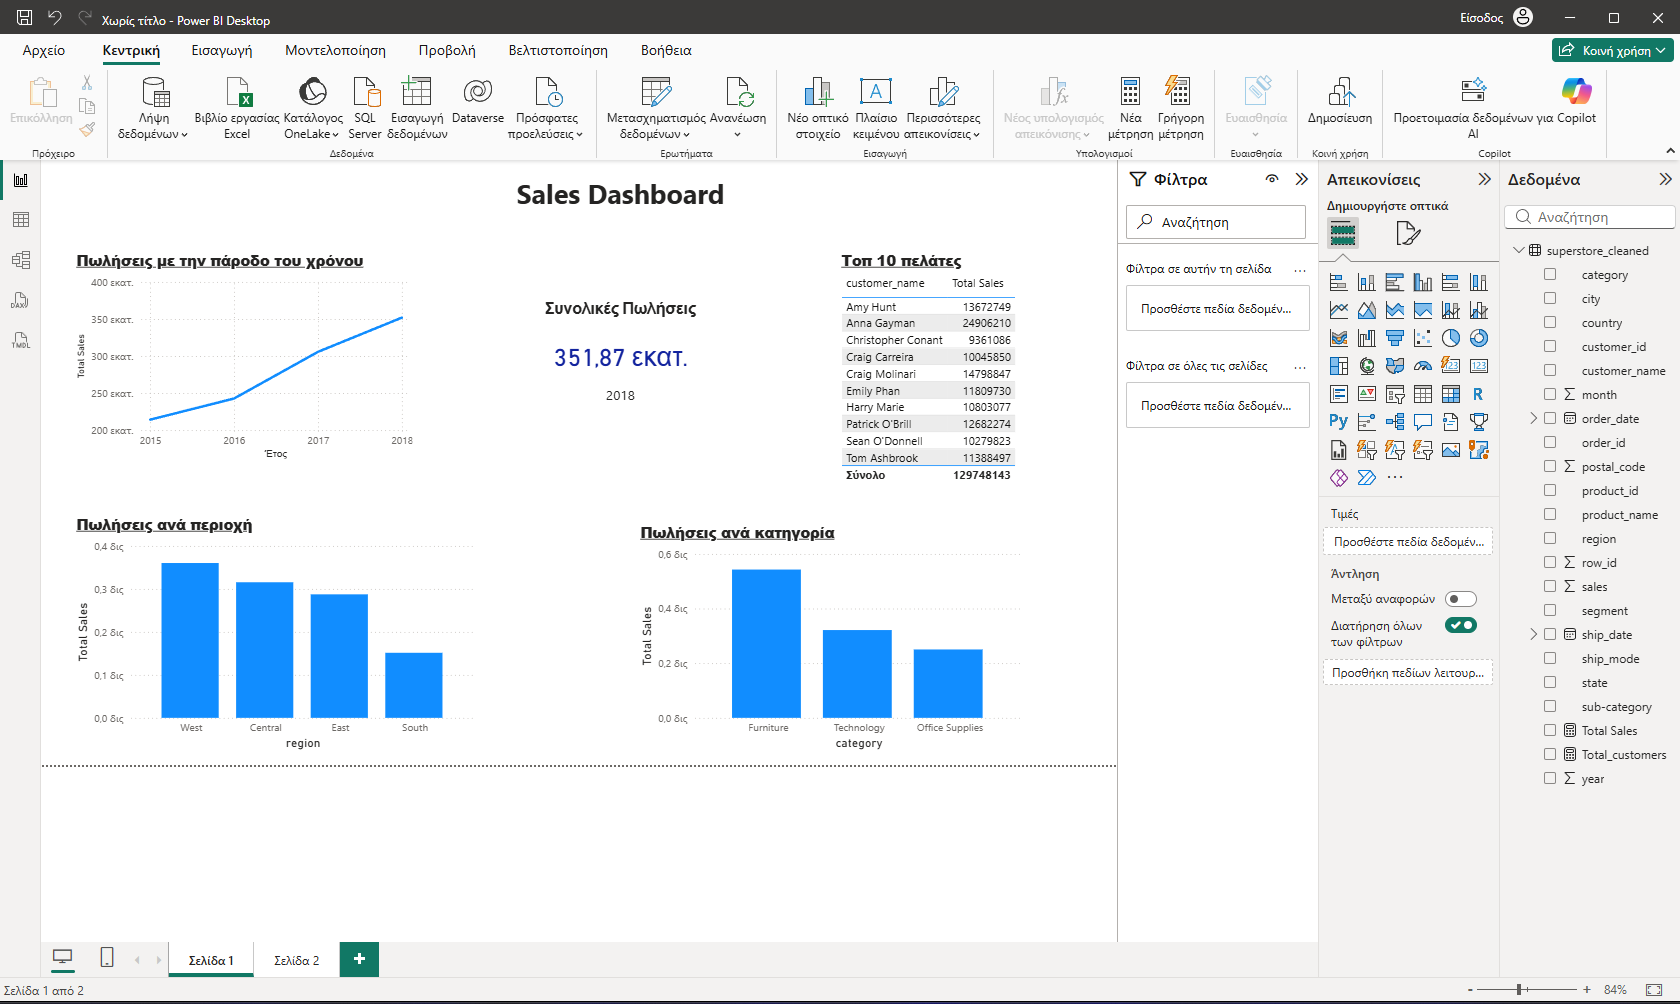

The page's visual inventory and layout, read from the dashboard file:
{"tool":"powerbi","page":{"name":"Σελίδα 1","canvas":[1280,720],"ordinal":0},"visuals":[{"type":"lineChart","title":"Πωλήσεις με την πάροδο του χρόνου","fields":{"Category":["superstore_cleaned.order_date.Παραλλαγή.Ιεραρχία ημερομηνιών.Έτος","superstore_cleaned.order_date.Παραλλαγή.Ιεραρχία ημερομηνιών.Τρίμηνο","superstore_cleaned.order_date.Παραλλαγή.Ιεραρχία ημερομηνιών.Μήνας","superstore_cleaned.order_date.Παραλλαγή.Ιεραρχία ημερομηνιών.Ημέρα"],"Y":["superstore_cleaned.Total Sales"]},"box":[36.9,107.1,410.4,253.4],"z":1000},{"type":"columnChart","title":"Πωλήσεις ανά κατηγορία","fields":{"Category":["superstore_cleaned.category"],"Y":["superstore_cleaned.Total Sales"]},"box":[574.6,425.9,465.1,276],"z":2000},{"type":"columnChart","title":"Πωλήσεις ανά περιοχή","fields":{"Category":["superstore_cleaned.region"],"Y":["superstore_cleaned.Total Sales"]},"box":[36.9,421.1,484.2,285.5],"z":3000},{"type":"tableEx","title":"Τοπ 10 πελάτες","fields":{"Values":["superstore_cleaned.customer_name","superstore_cleaned.Total Sales"]},"box":[795.8,107.1,226,310.5],"z":4000},{"type":"kpi","title":"Συνολικές Πωλήσεις","fields":{"Indicator":["superstore_cleaned.Total Sales"],"Goal":["Sum(superstore_cleaned.year)","Sum(superstore_cleaned.month)"],"TrendLine":["superstore_cleaned.year"]},"box":[484.2,166.5,291.4,134.4],"z":5000},{"type":"textbox","box":[484.2,11.9,410.4,72.6],"z":6000},{"type":"slicer","fields":{"Values":["superstore_cleaned.year"]},"box":[1093.2,48.8,186.8,670.9],"z":6001}]}

Visuals, with their boxes on the page's 1280x720 design canvas (x1, y1, x2, y2). These are canvas units, not pixel positions in the 1680x1004 screenshot, which may show the page scaled, cropped or inside an application window:
"Πωλήσεις με την πάροδο του χρόνου" lineChart: {"x1": 37, "y1": 107, "x2": 447, "y2": 360}
"Πωλήσεις ανά κατηγορία" columnChart: {"x1": 575, "y1": 426, "x2": 1040, "y2": 702}
"Πωλήσεις ανά περιοχή" columnChart: {"x1": 37, "y1": 421, "x2": 521, "y2": 707}
"Τοπ 10 πελάτες" tableEx: {"x1": 796, "y1": 107, "x2": 1022, "y2": 418}
"Συνολικές Πωλήσεις" kpi: {"x1": 484, "y1": 166, "x2": 776, "y2": 301}
textbox: {"x1": 484, "y1": 12, "x2": 895, "y2": 84}
slicer - superstore_cleaned.year: {"x1": 1093, "y1": 49, "x2": 1280, "y2": 720}
